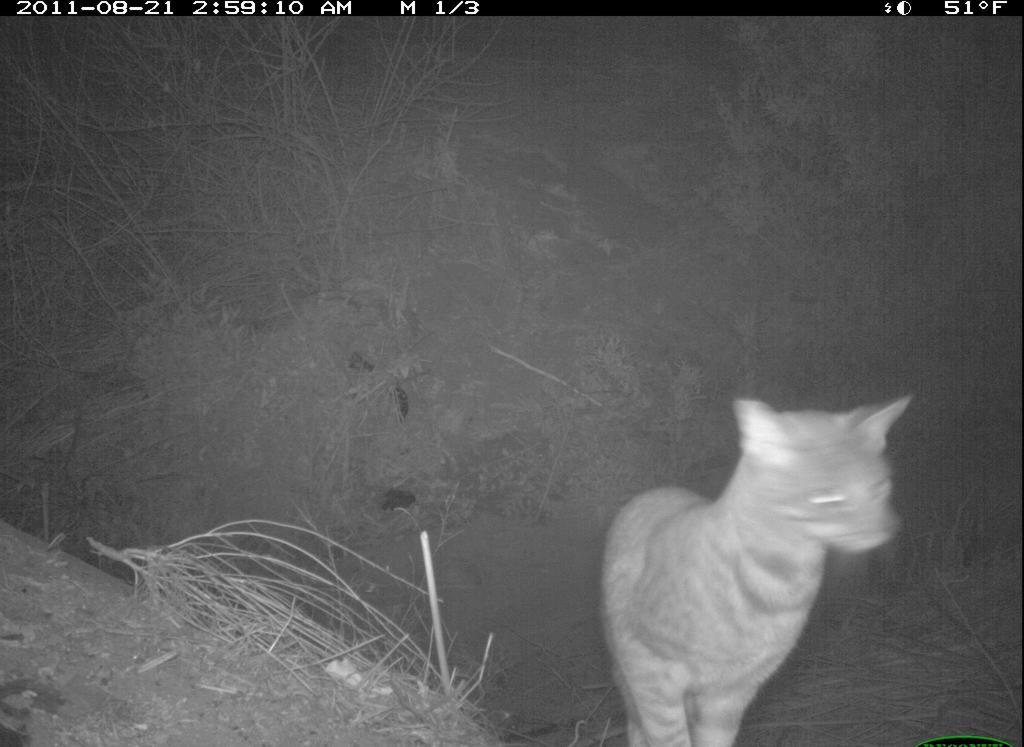cat: (592, 382, 929, 747)
